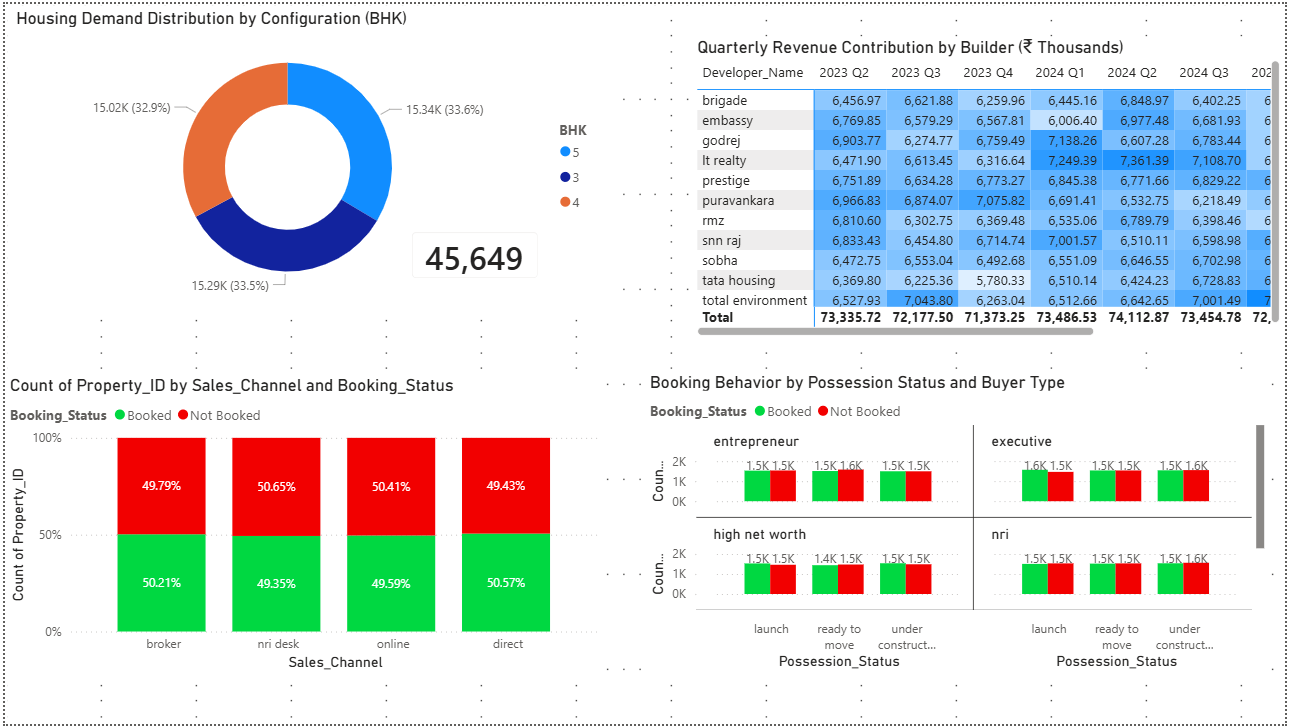

Layout of this report page (visuals, bound fields, positions):
{"tool":"powerbi","page":{"name":"Housing Demand, Sales Channels & Buyer Behavior Analysis","canvas":[1280,720],"ordinal":1},"visuals":[{"type":"group","id":"g1","title":"Group 1","box":[6.1,3.7,600,300],"z":0},{"type":"donutChart","title":"Housing Demand Distribution by Configuration (BHK)","fields":{"Category":["real_estate_db real_estate_data.BHK"],"Y":["CountNonNull(real_estate_db real_estate_data.Property_ID)"]},"box":[6.1,3.7,600,300],"z":0,"group":"g1"},{"type":"cardVisual","fields":{"Data":["CountNonNull(real_estate_db real_estate_data.Property_ID)"]},"box":[390.1,211.7,160,80],"z":1000,"group":"g1"},{"type":"hundredPercentStackedColumnChart","fields":{"Category":["real_estate_db real_estate_data.Sales_Channel"],"Y":["CountNonNull(real_estate_db real_estate_data.Property_ID)"],"Series":["real_estate_db real_estate_data.Booking_Status"]},"box":[0,371.7,600,300],"z":1000},{"type":"pivotTable","title":"Quarterly Revenue Contribution by Builder (₹ Thousands)","fields":{"Rows":["real_estate_db real_estate_data.Developer_Name"],"Columns":["real_estate_db real_estate_data.Quarter_Label"],"Values":["Sum(real_estate_db real_estate_data.Ticket_Price_Cr)"]},"box":[688,32,592,304],"z":2000},{"type":"clusteredColumnChart","title":"Booking Behavior by Possession Status and Buyer Type","fields":{"Category":["real_estate_db real_estate_data.Possession_Status"],"Y":["CountNonNull(real_estate_db real_estate_data.Property_ID)"],"Series":["real_estate_db real_estate_data.Booking_Status"],"Rows":["real_estate_db real_estate_data.Buyer_Type"]},"box":[640,368,624,304],"z":3000}]}

Visuals, with their boxes in screenshot pixels (x1, y1, x2, y2), scaled from the page's 1280x720 canvas onto the 1289x727 screenshot:
"Group 1" group: [6,4,610,307]
"Housing Demand Distribution by Configuration (BHK)" donutChart: [6,4,610,307]
cardVisual - CountNonNull(real_estate_db real_estate_data.Property_ID): [393,214,554,295]
hundredPercentStackedColumnChart - real_estate_db real_estate_data.Sales_Channel x CountNonNull(real_estate_db real_estate_data.Property_ID): [0,375,604,678]
"Quarterly Revenue Contribution by Builder (₹ Thousands)" pivotTable: [693,32,1288,339]
"Booking Behavior by Possession Status and Buyer Type" clusteredColumnChart: [644,372,1273,679]
